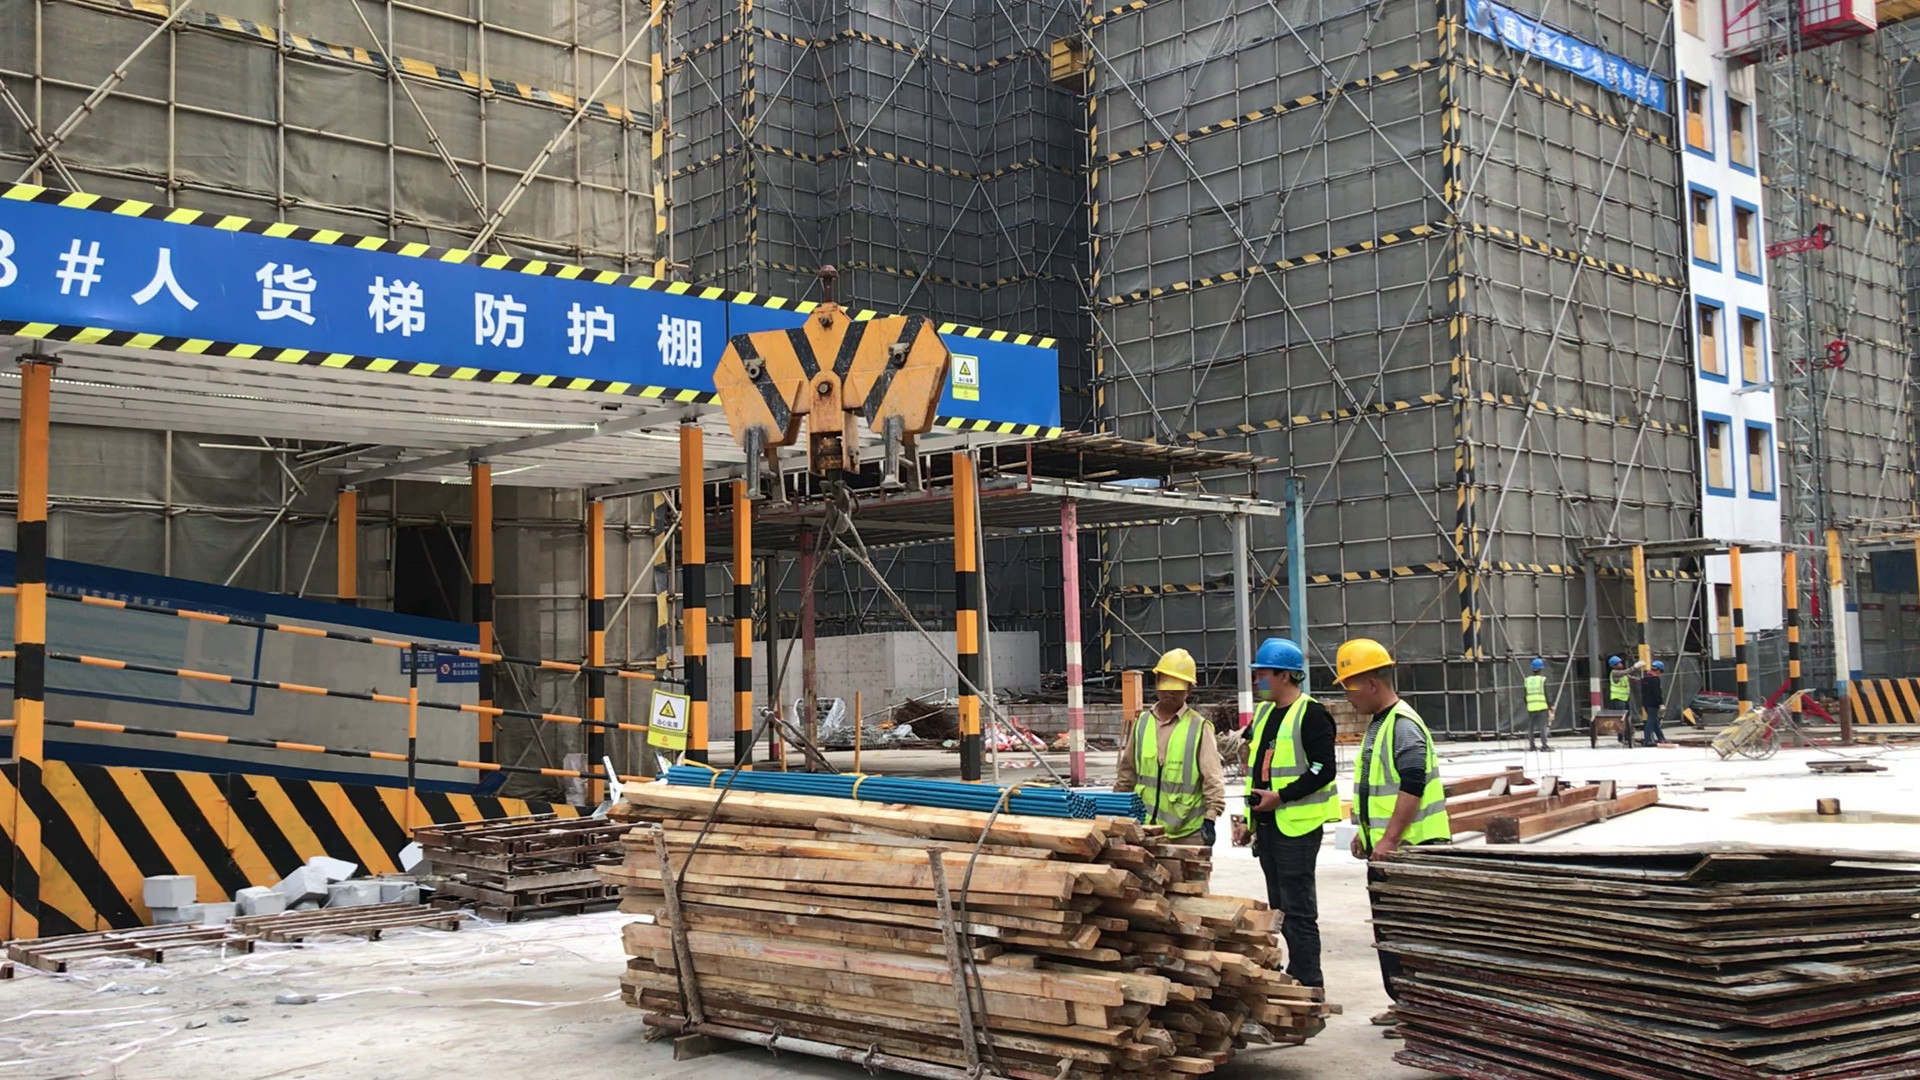board: (1364, 848, 1916, 1080)
helmet: (1334, 641, 1396, 683), (1249, 637, 1308, 671), (1151, 649, 1198, 686), (1652, 661, 1665, 672), (1530, 658, 1544, 669), (1606, 655, 1620, 666)
hook: (713, 304, 950, 482)
person: (1234, 637, 1337, 1011), (1330, 639, 1454, 849), (1115, 648, 1222, 861), (1520, 657, 1553, 753), (1640, 661, 1666, 746), (1605, 654, 1631, 706)
slogan: (1461, 1, 1670, 115)
vest: (1347, 705, 1449, 858), (1240, 697, 1331, 850), (1129, 700, 1212, 832), (1525, 675, 1549, 713), (1611, 669, 1631, 701)
wood: (586, 774, 1334, 1080)
